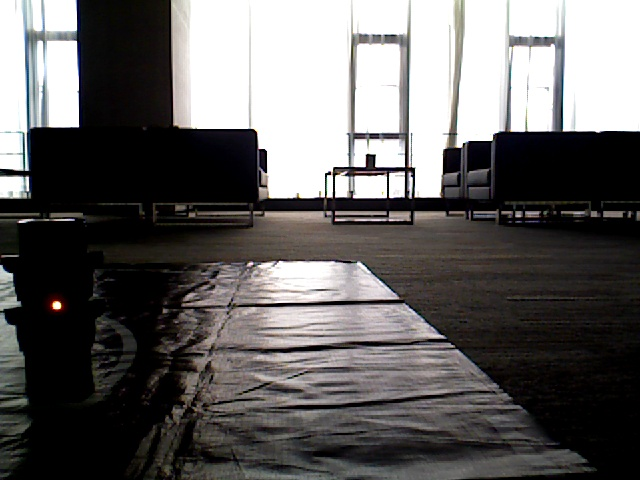yellow: (20, 228, 87, 379)
